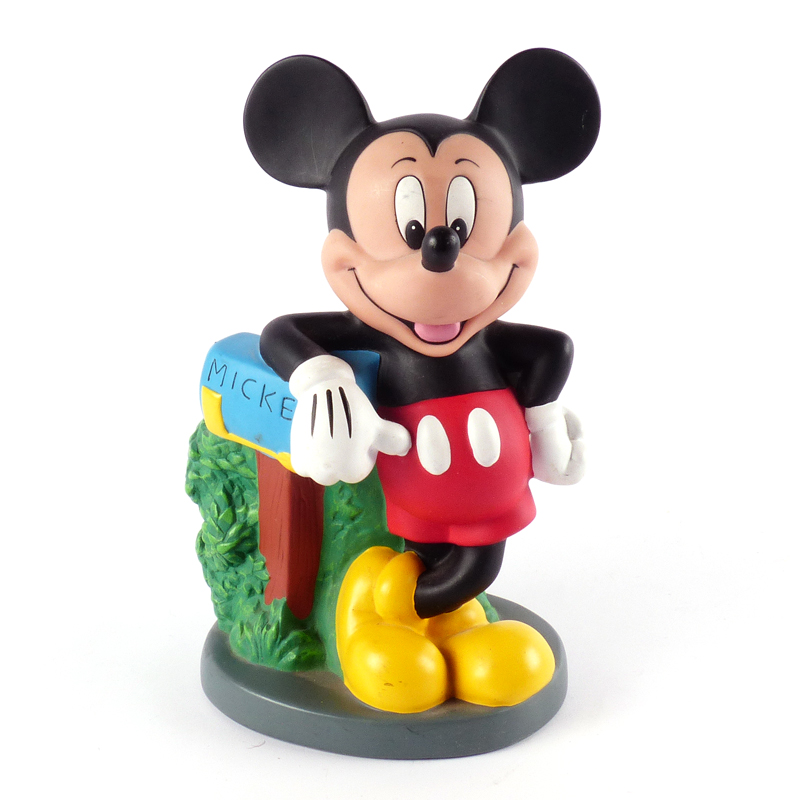Mickey: (242, 44, 604, 358)
